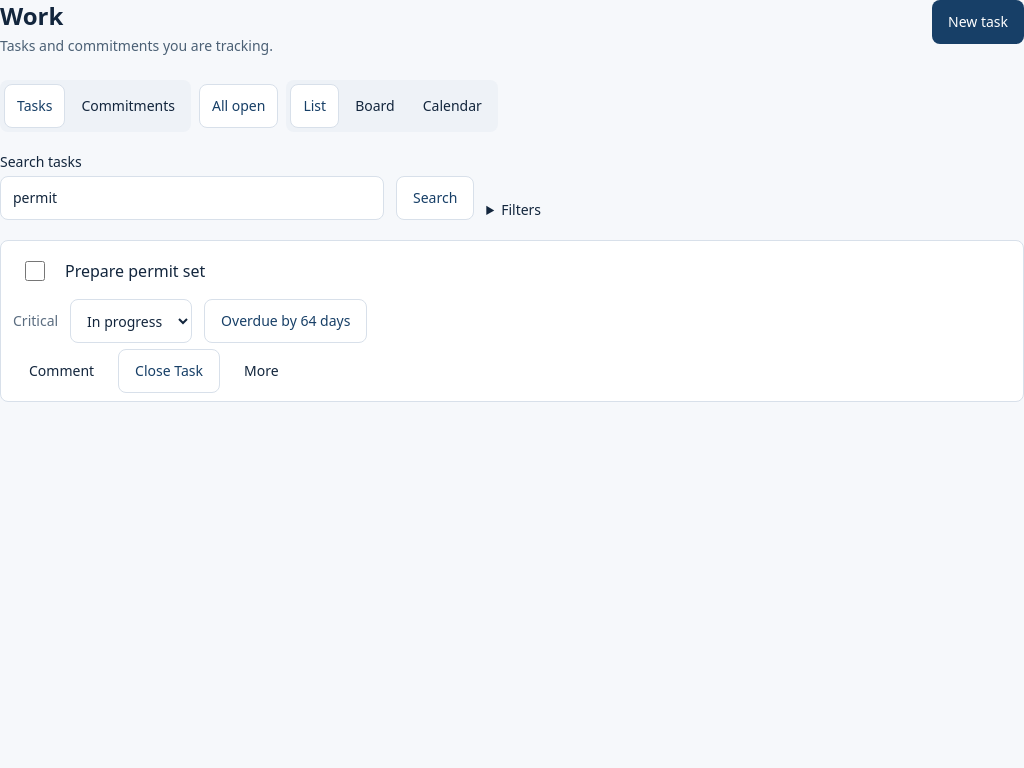
Test: Work surface › switches list, lifecycle board, and calendar without losing selection or URL filters
Click the checkbox named "Select Prepare permit set".
click(35, 271)  # box [25, 261, 45, 281]
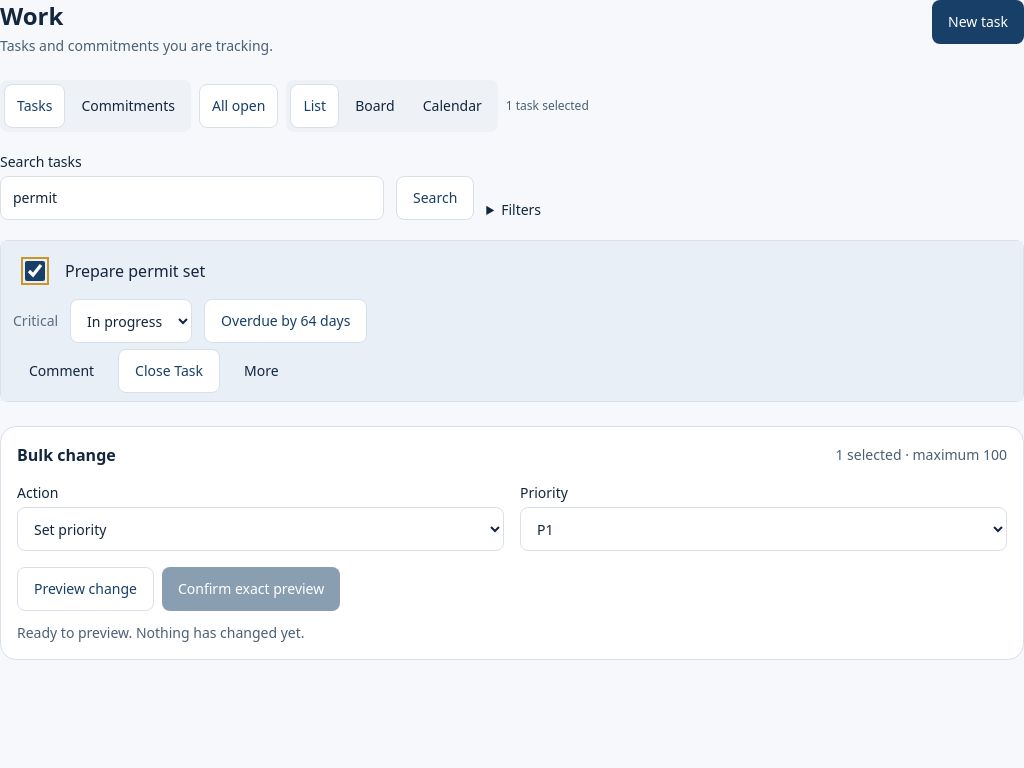
Click the button "Board".
click(375, 106)  # box [343, 84, 407, 128]
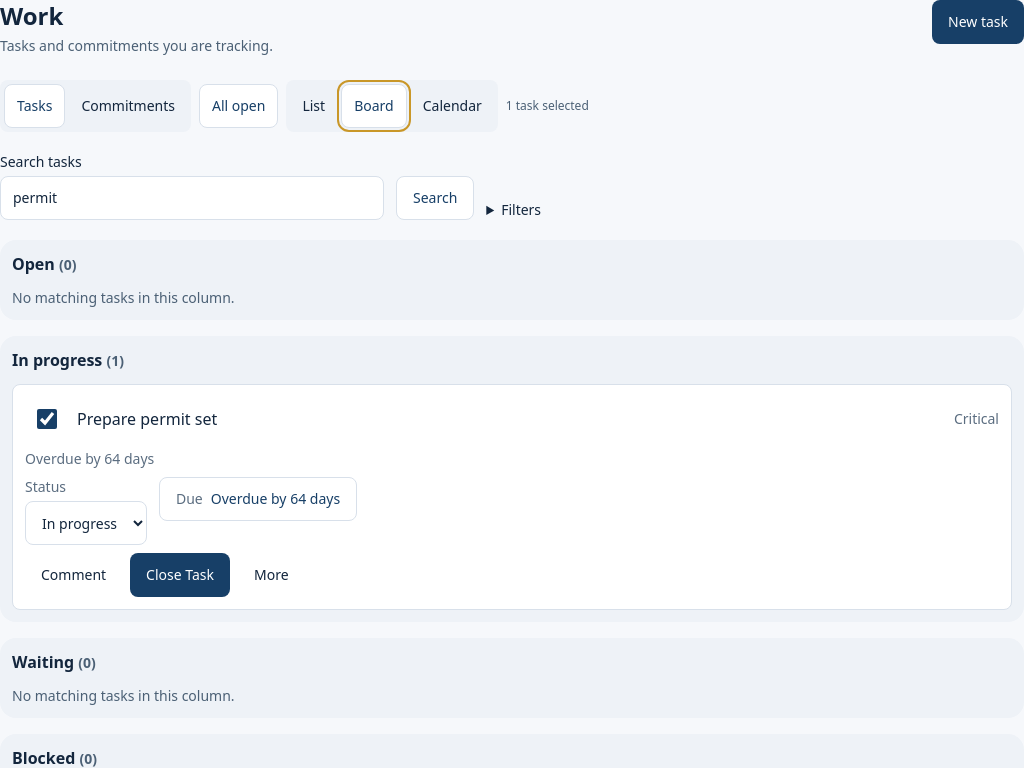
Check: the checkbox named "Select Prepare permit set" is checked, box [37, 409, 57, 429]
Click the button "Calendar".
click(452, 106)  # box [411, 84, 494, 128]
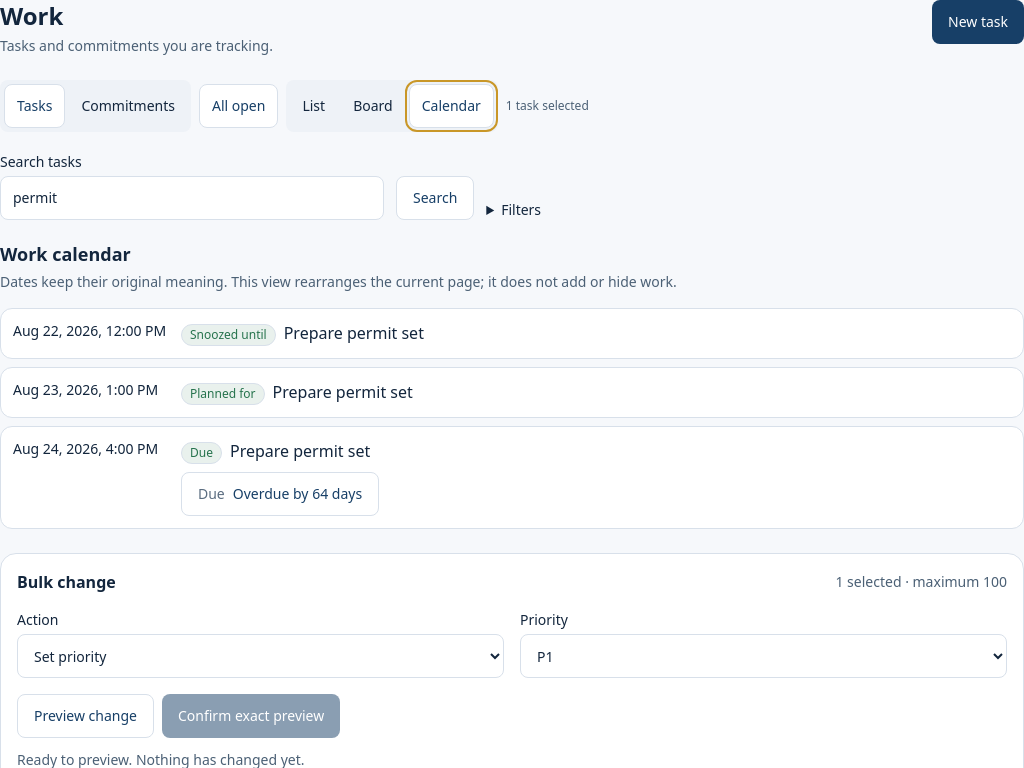
Check: the 1st text "Due" is shown, box [181, 442, 222, 464]
Check: the text "Planned for" is shown, box [181, 383, 264, 405]
Check: the text "Snoozed until" is shown, box [181, 324, 276, 346]
